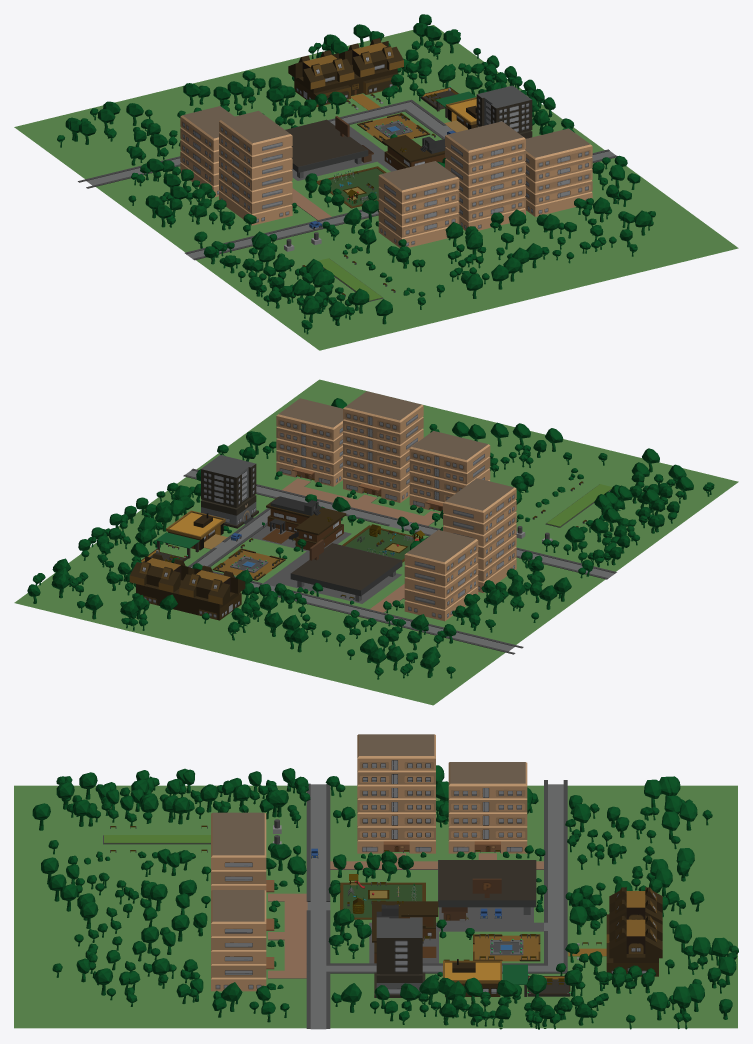
File: layout_exportToSF.fbx
3 renders of one model, top to bottom at view 1: azimuth 30°, elevation 25°; view 2: azimuth 150°, elevation 25°; view 3: azimuth 270°, elevation 25°, orthographic. The views are drawn at different scales.
Visible parts, largest first — view 1: ground, nature, apartments5_3, ground_items, hotel, cafe_parking, office, motel; view 2: ground, apartments5_3, nature, ground_items, cafe_parking, hotel, office, motel, playground_Items; view 3: ground, nature, apartments5_3, ground_items, cafe_parking, hotel, office, motel, playground_Items, furniture.
Part boxes in pixels (box(x1,y1,x2,y2)): ground: box(14, 25, 738, 350); nature: box(57, 14, 655, 334); apartments5_3: box(180, 106, 592, 247); ground_items: box(78, 99, 617, 301); hotel: box(288, 38, 403, 110); cafe_parking: box(285, 87, 477, 178); office: box(476, 85, 532, 138); motel: box(382, 135, 445, 169); ground: box(14, 379, 738, 705); apartments5_3: box(276, 391, 516, 621); nature: box(27, 398, 714, 679); ground_items: box(183, 468, 616, 654); cafe_parking: box(141, 510, 402, 601); hotel: box(129, 553, 245, 620); office: box(201, 455, 258, 528); motel: box(262, 496, 346, 550); playground_Items: box(357, 524, 424, 555); ground: box(14, 785, 737, 1028); nature: box(32, 765, 738, 1029); apartments5_3: box(211, 734, 543, 991); ground_items: box(103, 780, 567, 1029); cafe_parking: box(438, 860, 570, 996); hotel: box(568, 887, 662, 976); office: box(374, 917, 425, 997); motel: box(372, 901, 438, 963); playground_Items: box(348, 874, 416, 913); furniture: box(110, 825, 601, 986).
Bounding box in the file's own units: 2996 × 698 × 3681.
16 materials, 12 textured.
